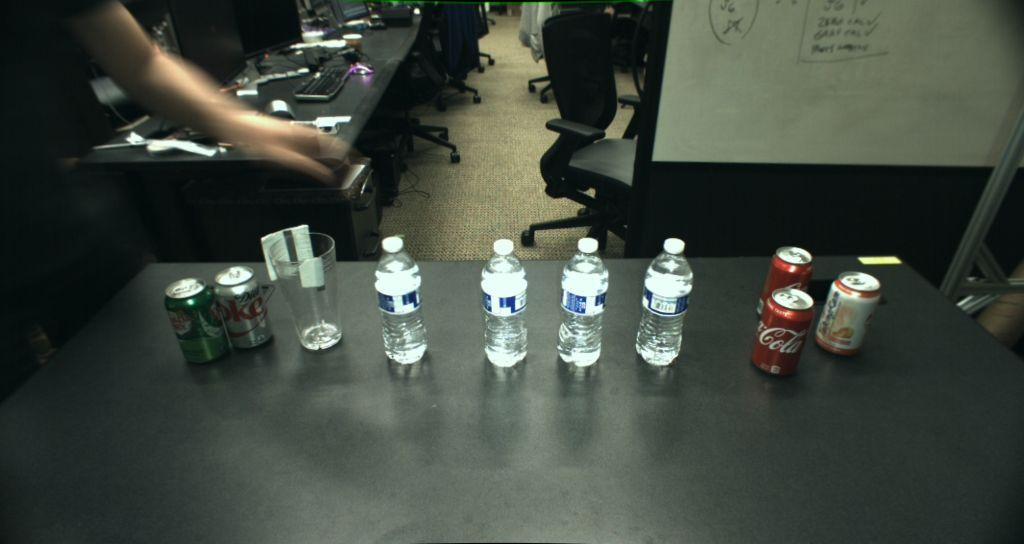can_coke: (751, 286, 815, 375)
can_diet_coke: (213, 266, 273, 349)
can_ginger_ale: (164, 278, 230, 365)
can_talking_rain_peach_nectarine: (815, 270, 881, 356)
water_bottle: (635, 237, 693, 366), (374, 236, 428, 364), (557, 237, 608, 367), (481, 239, 527, 367)
